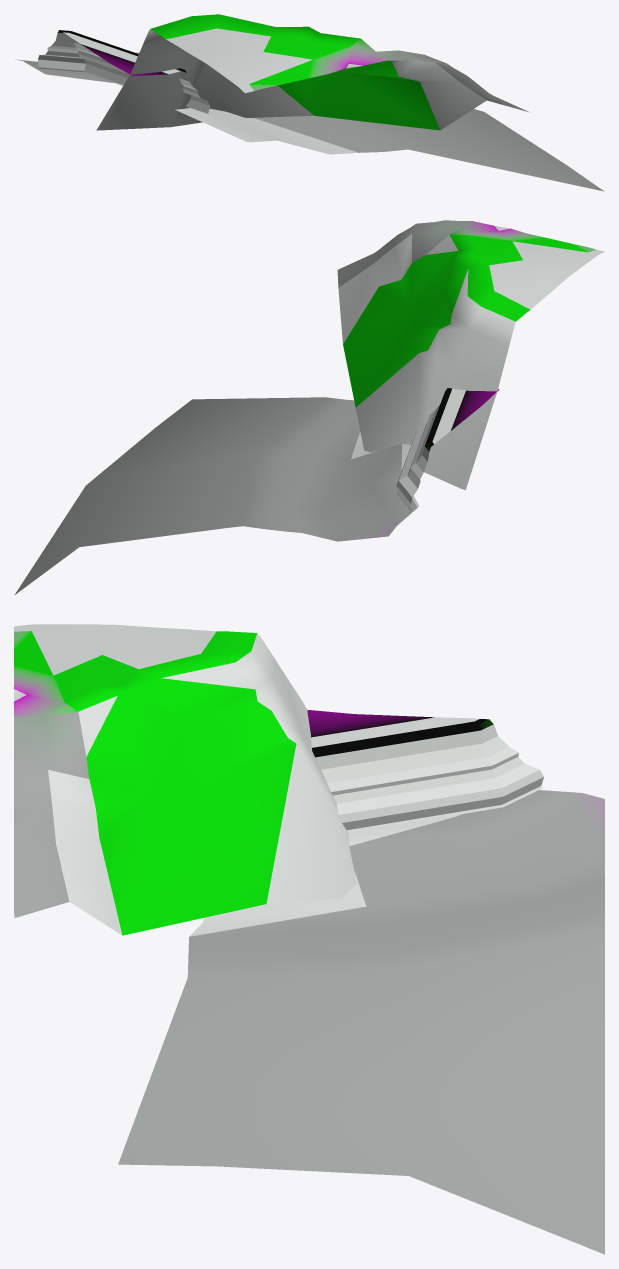
3 renders of one model, top to bottom at view 1: azimuth 30°, elevation 25°; view 2: azimuth 150°, elevation 25°; view 3: azimuth 270°, elevation 25°, orthographic. The views are drawn at different scales.
Visible parts, largest first — view 1: G:\FFXIV-MapTools\exports\f1f1\bg\ffxiv\fst_f1\fld\f1f1\bgpl (×8); view 2: G:\FFXIV-MapTools\exports\f1f1\bg\ffxiv\fst_f1\fld\f1f1\bgpl (×6); view 3: G:\FFXIV-MapTools\exports\f1f1\bg\ffxiv\fst_f1\fld\f1f1\bgpl (×7).
Boxes of the visible parts, x1,y1,x2,y2 form: G:\FFXIV-MapTools\exports\f1f1\bg\ffxiv\fst_f1\fld\f1f1\bgpl (×8): (15,14,604,191); G:\FFXIV-MapTools\exports\f1f1\bg\ffxiv\fst_f1\fld\f1f1\bgpl (×6): (14,220,604,595); G:\FFXIV-MapTools\exports\f1f1\bg\ffxiv\fst_f1\fld\f1f1\bgpl (×7): (14,624,604,1254).
Size of the model in its own units: 128 by 91.5 by 128.
